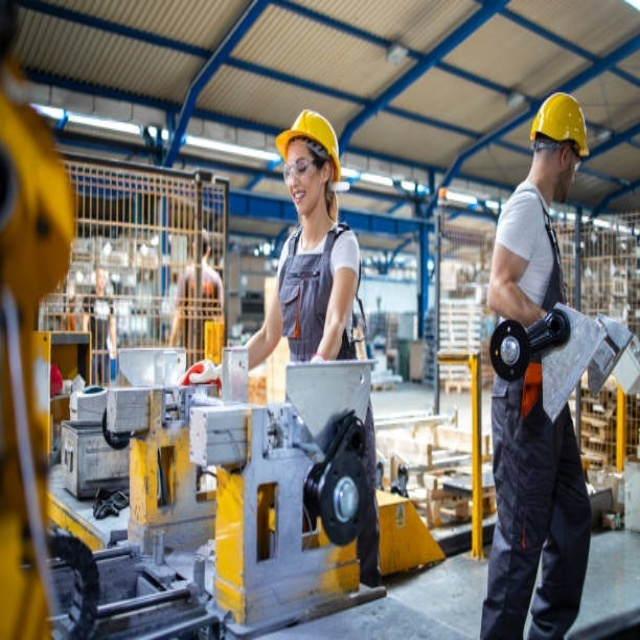Gafas: (281, 154, 315, 182), (566, 143, 586, 179)
Guantes: (181, 359, 222, 389)
Sin_mascara: (291, 184, 314, 218)
